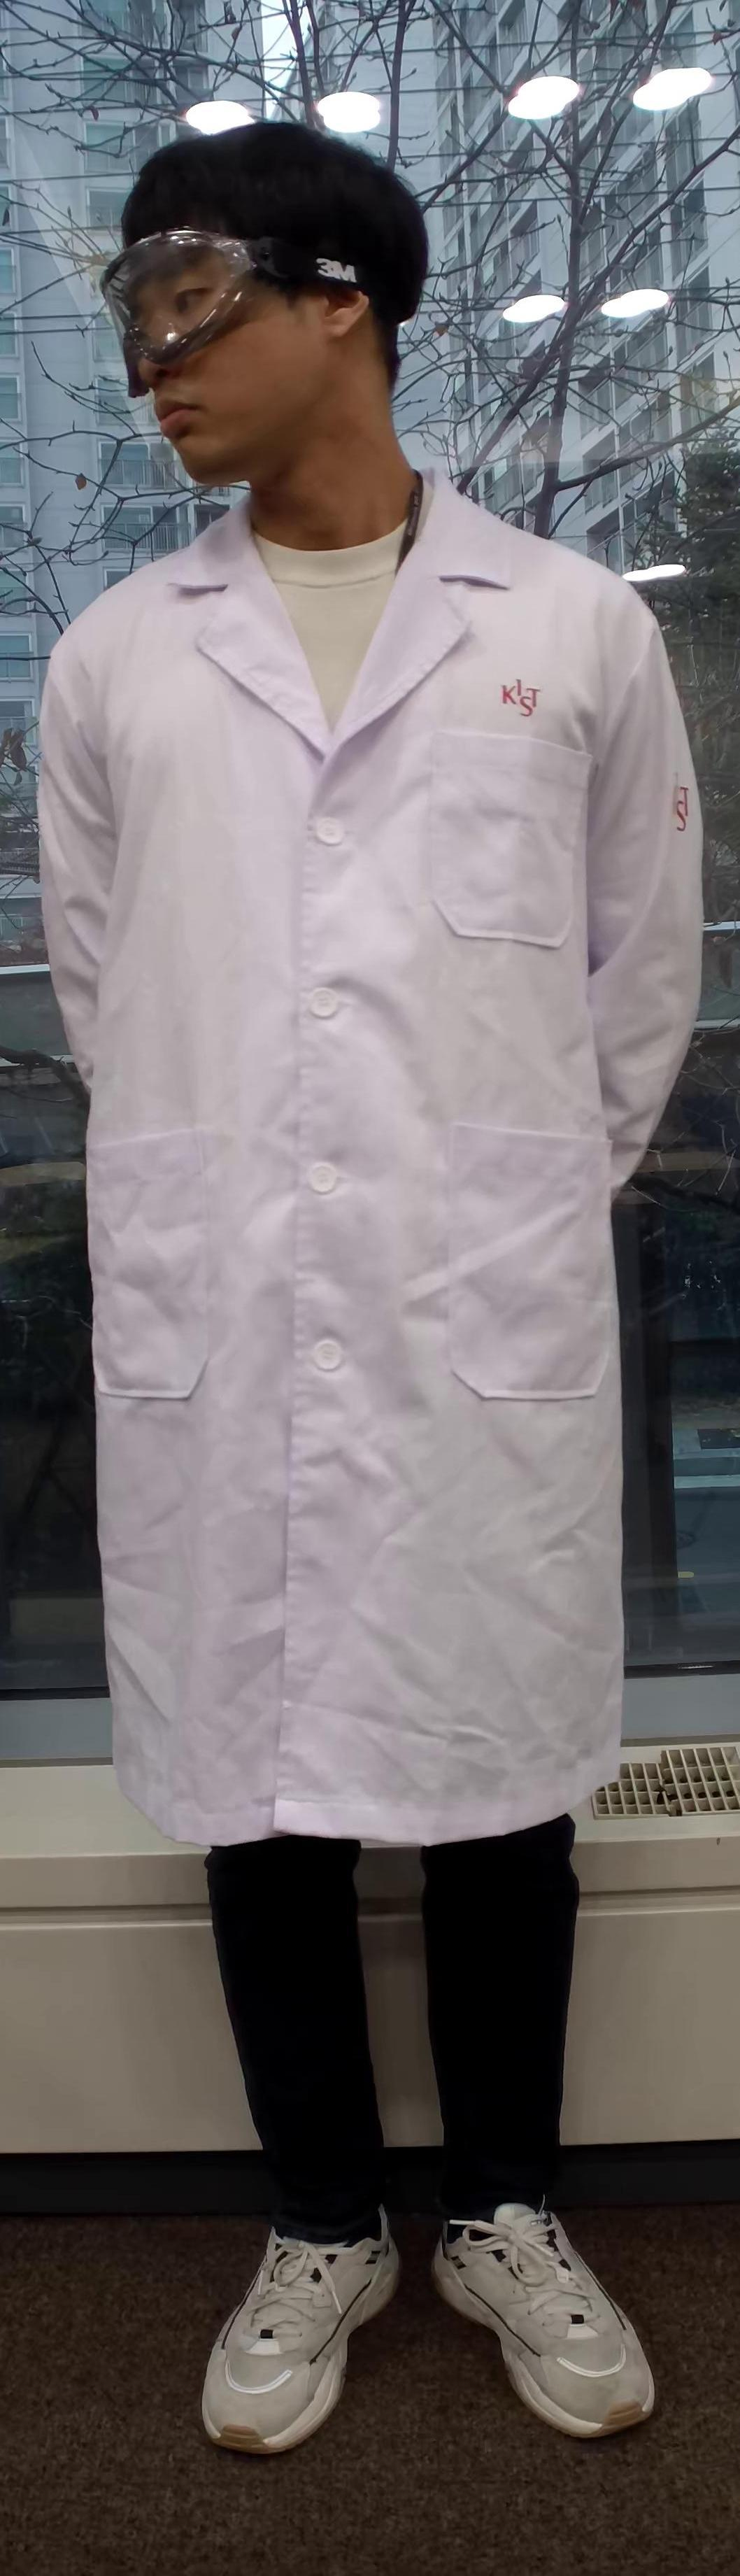lab_coat: (43, 575, 686, 1842)
